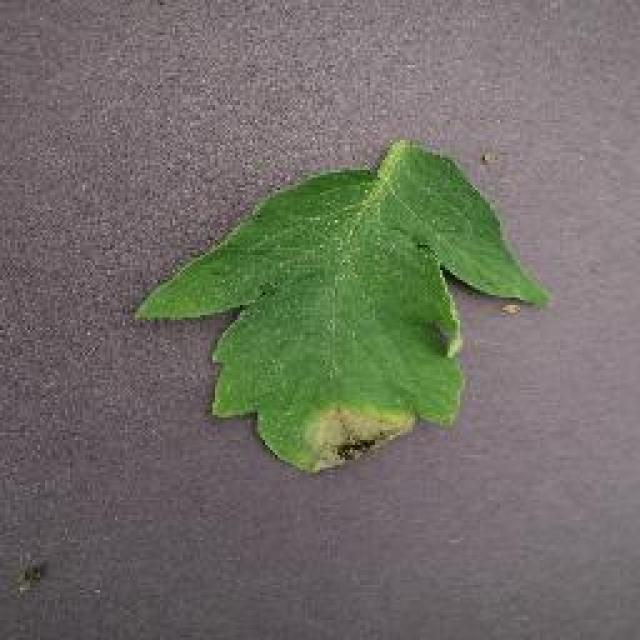Tomato late blight leaf: (132, 137, 546, 475)
